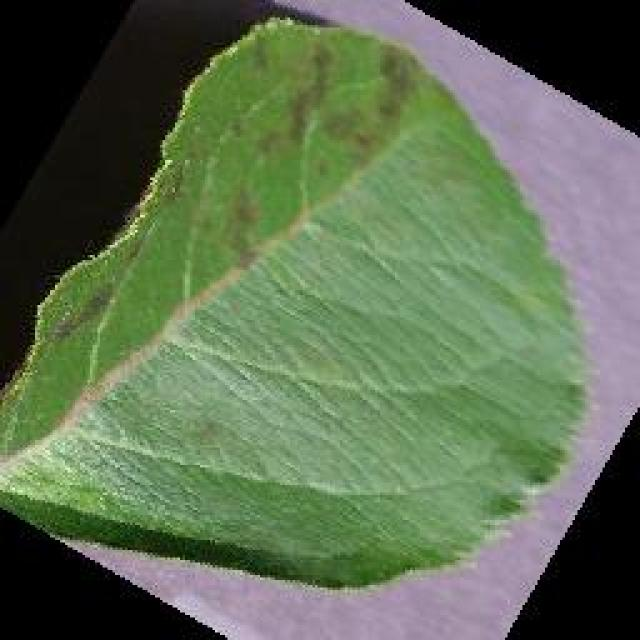apple scab disease: (0, 13, 595, 595)
